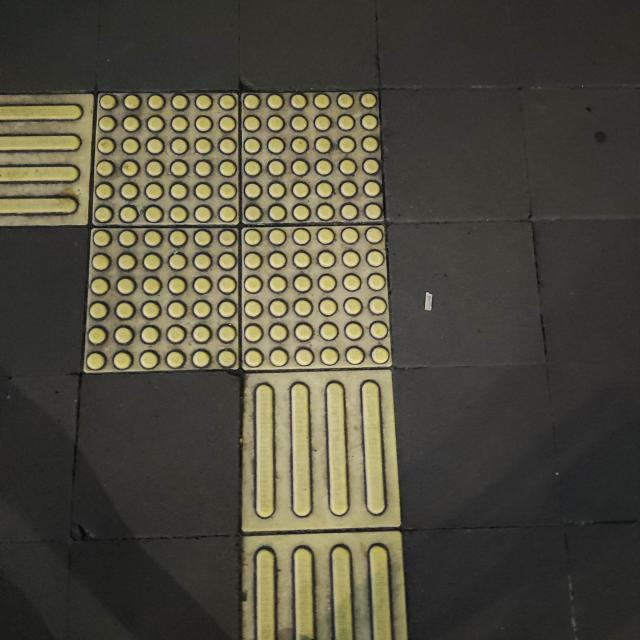kiri: (0, 63, 419, 449)
